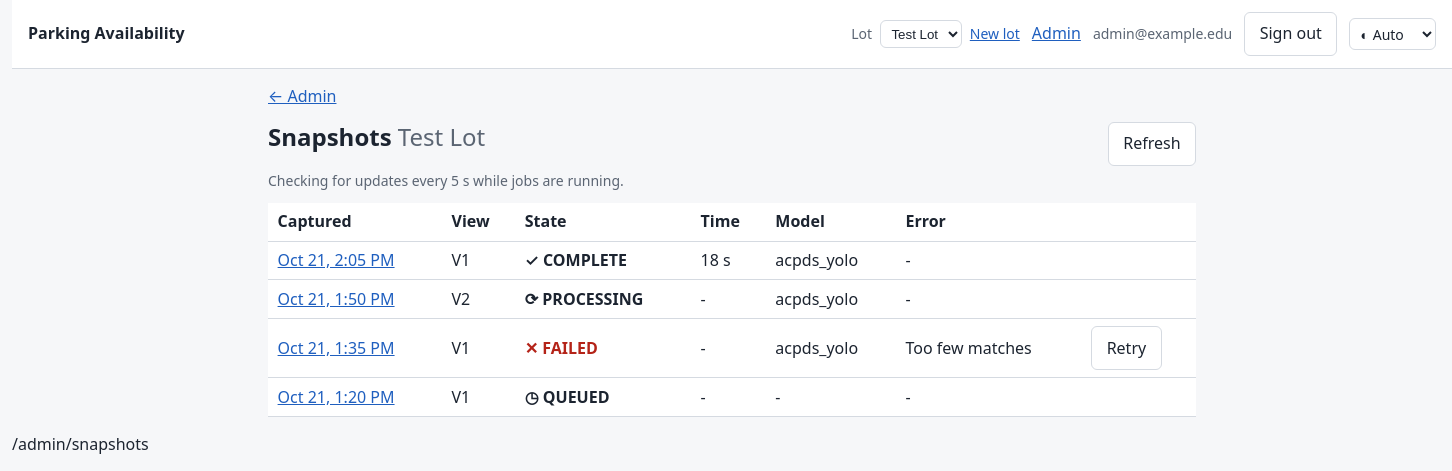
Test case: Snapshots page (US-06) › US-06 #3: pressing Retry makes the row show QUEUED
Step 1. Click the button "Retry" → (1126, 348), box [1091,326,1162,370]
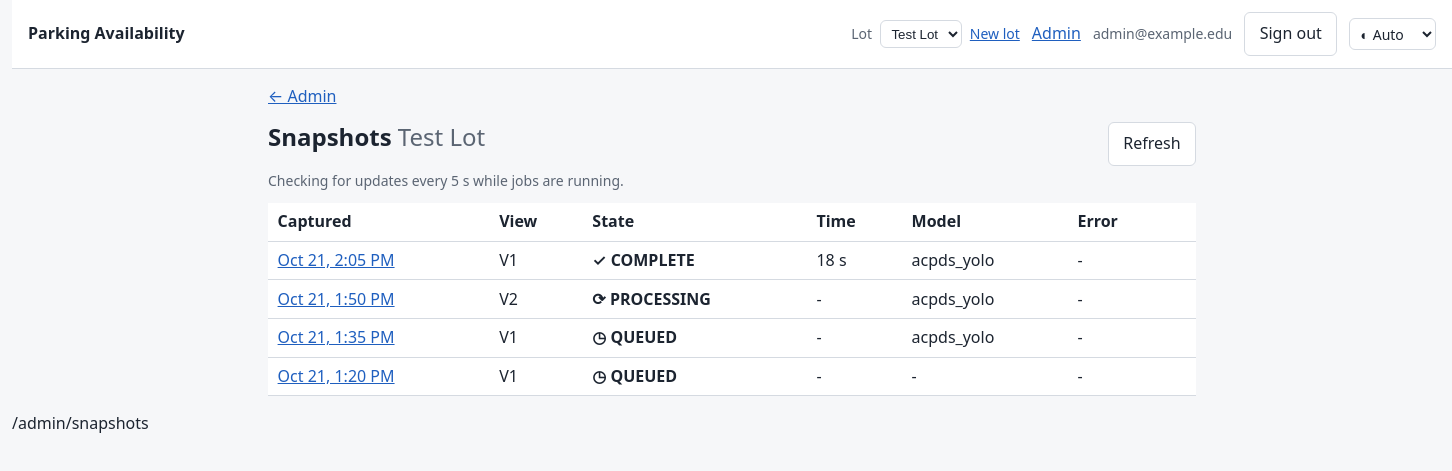
Now the 1st text "QUEUED" is shown, box [592,326,677,348]
Now the button "Retry" is gone
Now the text "Too few matches" is gone
